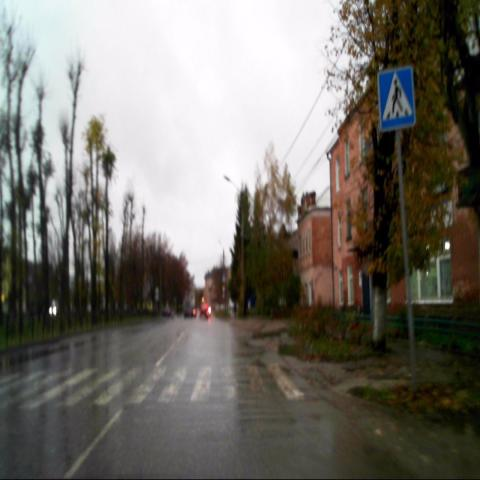5_19_1: (378, 67, 416, 131)
